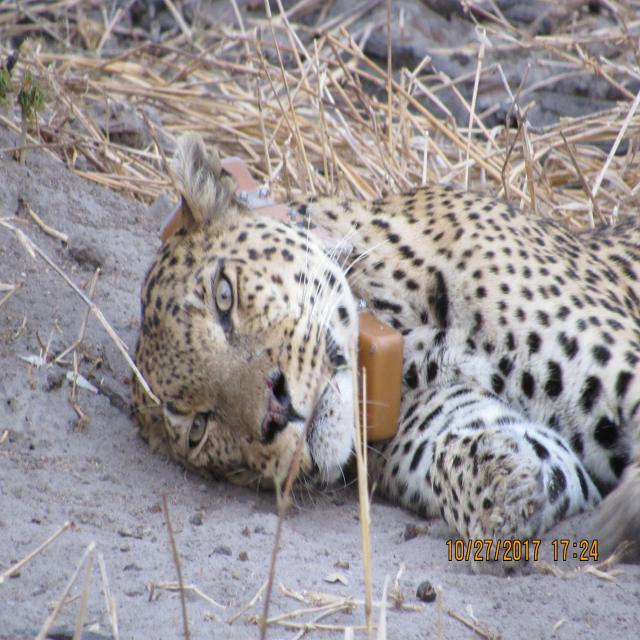Leopard: (118, 137, 640, 592)
